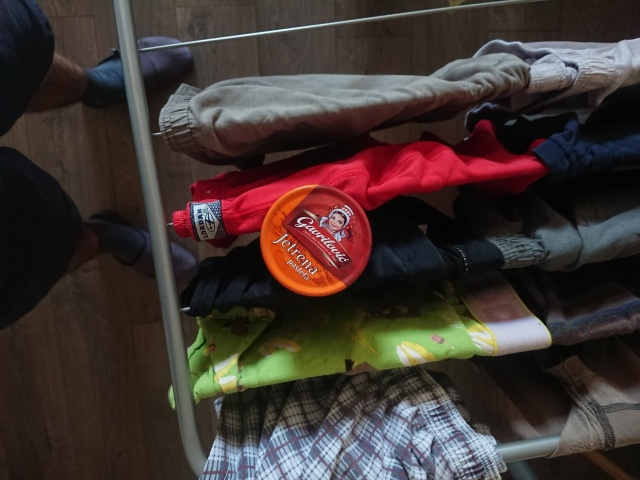Gavrilovic Pork Liver Pate 100g: (255, 180, 375, 299)
